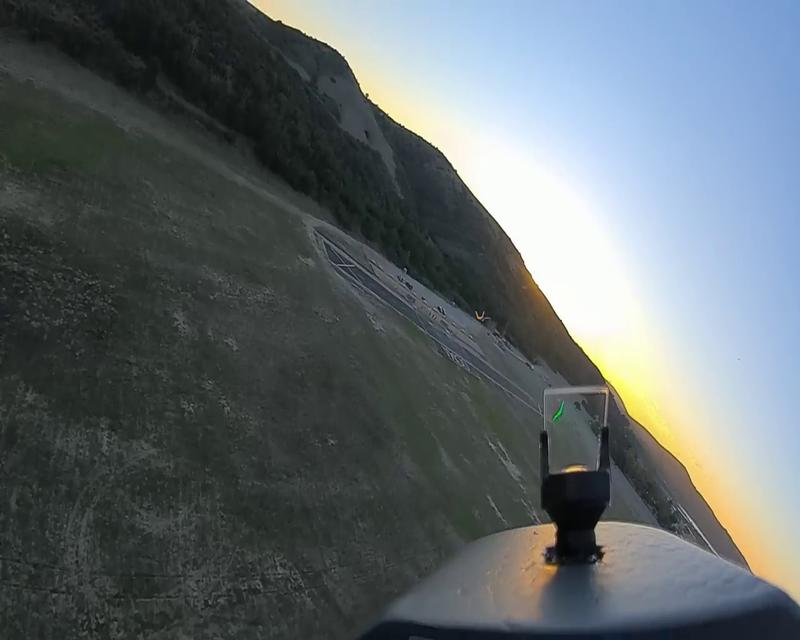UAV: (473, 309, 490, 323)
